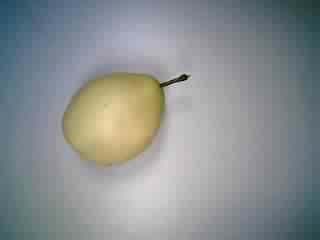pear: (51, 60, 199, 166)
